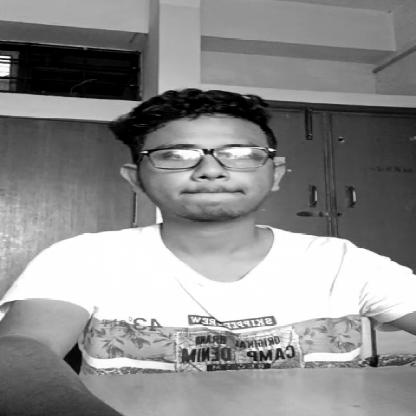Normal: (121, 104, 272, 214)
